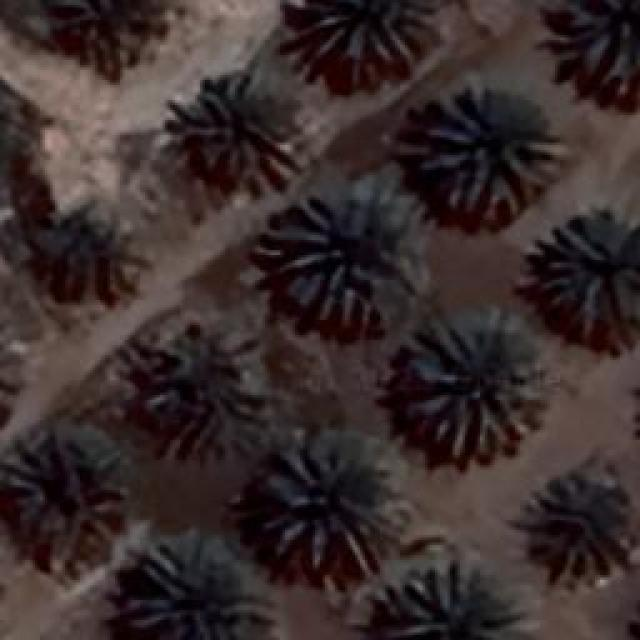PalmTree: (264, 180, 428, 330), (400, 312, 540, 460), (412, 82, 560, 220), (137, 318, 270, 458), (257, 438, 395, 568), (127, 538, 280, 638), (178, 70, 300, 185), (9, 430, 122, 545), (540, 208, 635, 342), (392, 560, 532, 638), (34, 215, 142, 313), (535, 472, 630, 580), (297, 0, 437, 62), (52, 0, 156, 78), (562, 0, 636, 95), (0, 321, 23, 417)
